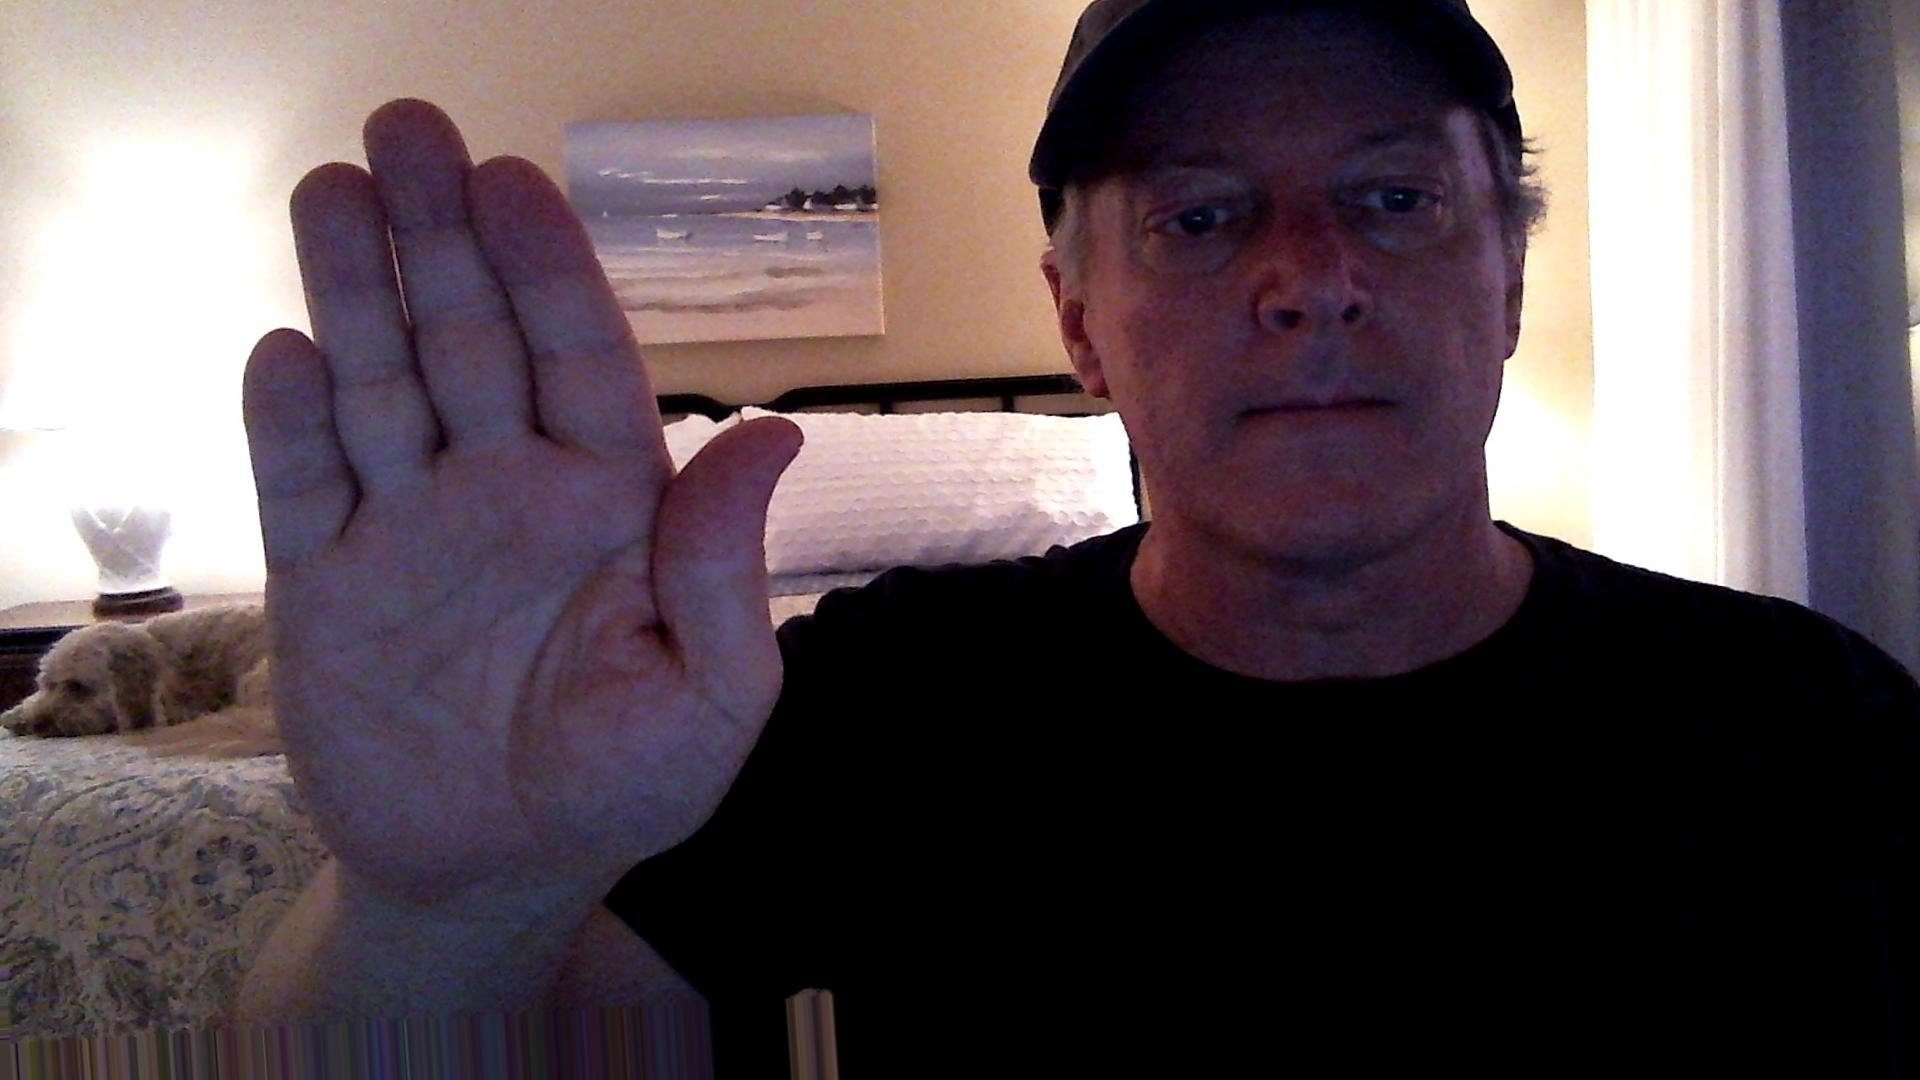Hello: (225, 80, 807, 910)
